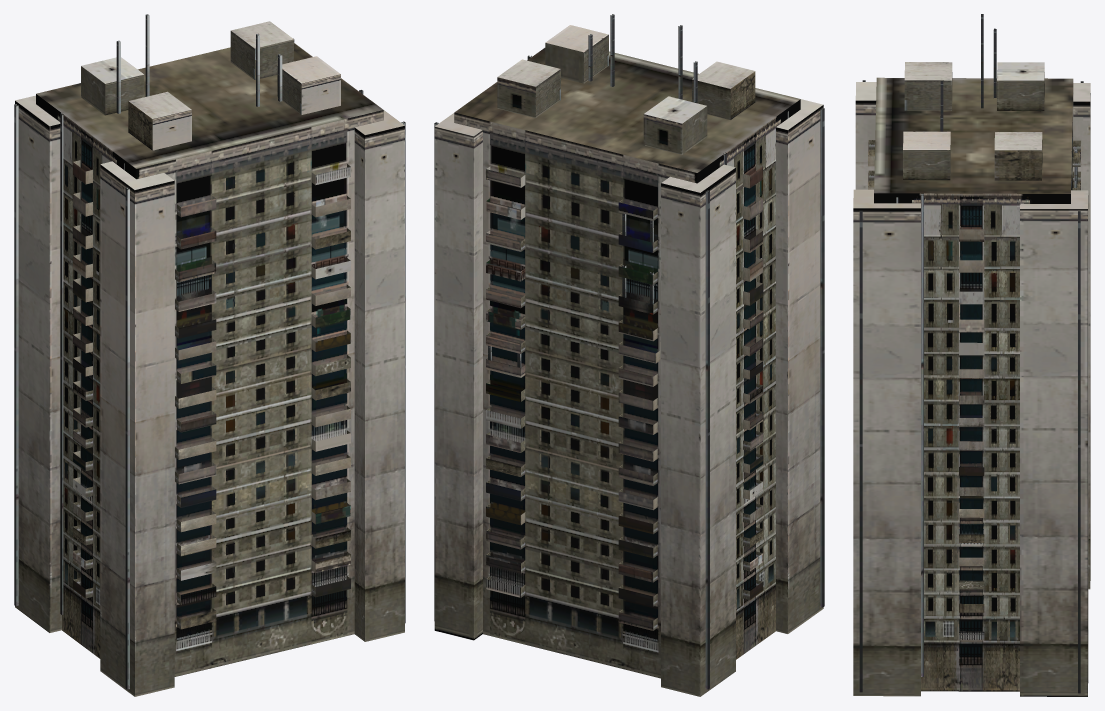
The model's file is Ruin_Tower_01.fbx.
The picture shows the model from 3 angles, left to right: view 1: azimuth 30°, elevation 25°; view 2: azimuth 150°, elevation 25°; view 3: azimuth 270°, elevation 25°; orthographic projection. The views are drawn at different scales.
Parts seen in each view (by area): view 1: Ruin_Tower_01_Part0_buildingsheet_03a; view 2: Ruin_Tower_01_Part0_buildingsheet_03a; view 3: Ruin_Tower_01_Part0_buildingsheet_03a.
Boxes of the visible parts, x1,y1,x2,y2 form: Ruin_Tower_01_Part0_buildingsheet_03a: [14, 14, 405, 696]; Ruin_Tower_01_Part0_buildingsheet_03a: [434, 14, 824, 696]; Ruin_Tower_01_Part0_buildingsheet_03a: [853, 14, 1090, 696].
Size of the model in its own units: 2 by 4.21 by 1.53.
